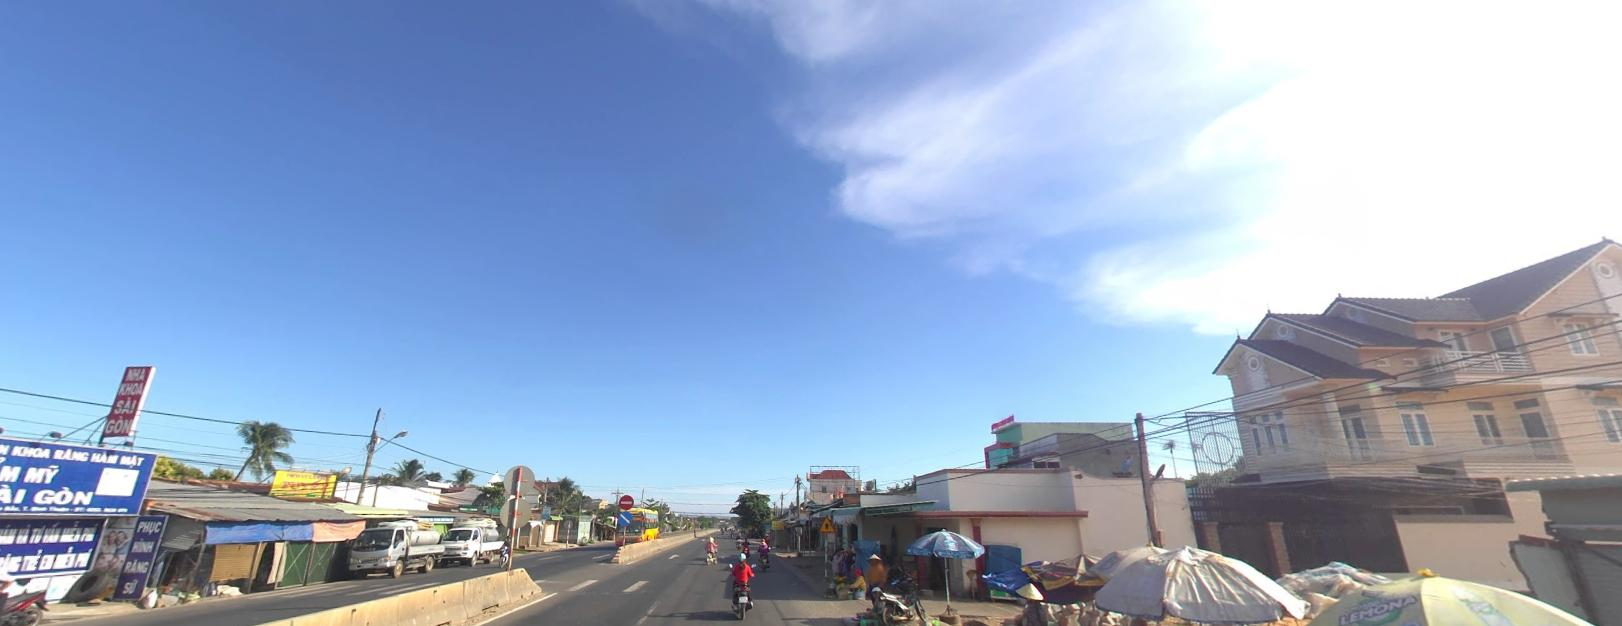Cam nguoc chieu: (617, 493, 633, 509)
Hieu lenh: (615, 511, 633, 527)
Nguy hiem: (818, 512, 836, 533)
